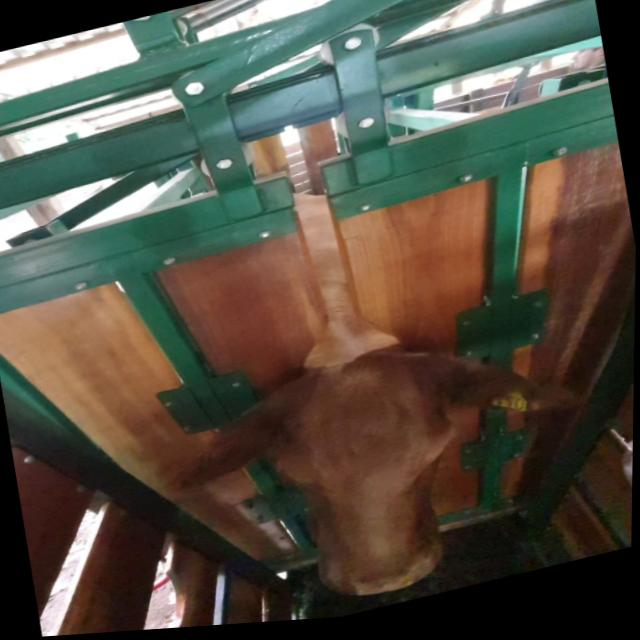cowFace: (257, 348, 482, 619)
